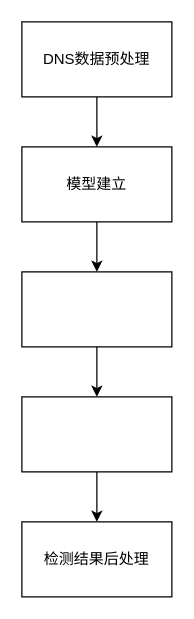
Image size: 194x619. Some labels were removed from this diagram. The centre of each missing label's shape, as x and y in pixels:
"特征提取" belongs at (x=96, y=309).
"逻辑回归" belongs at (x=96, y=434).
